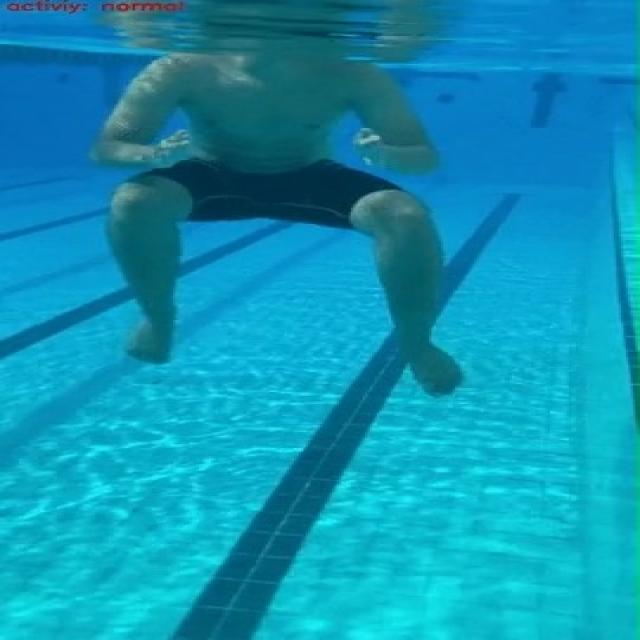Drowning: (91, 46, 472, 398)
